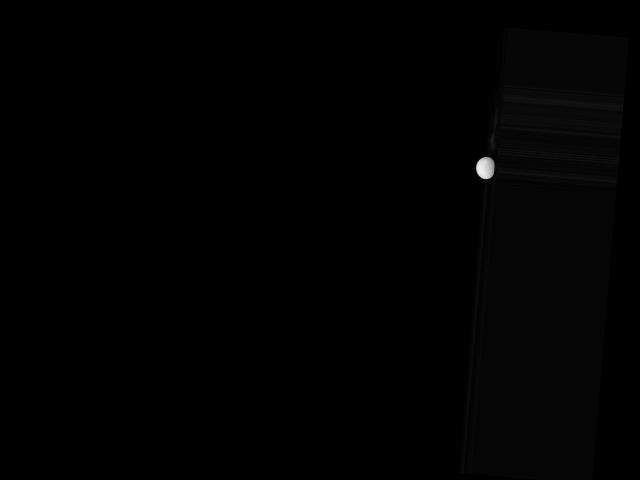egg: (475, 155, 495, 179)
